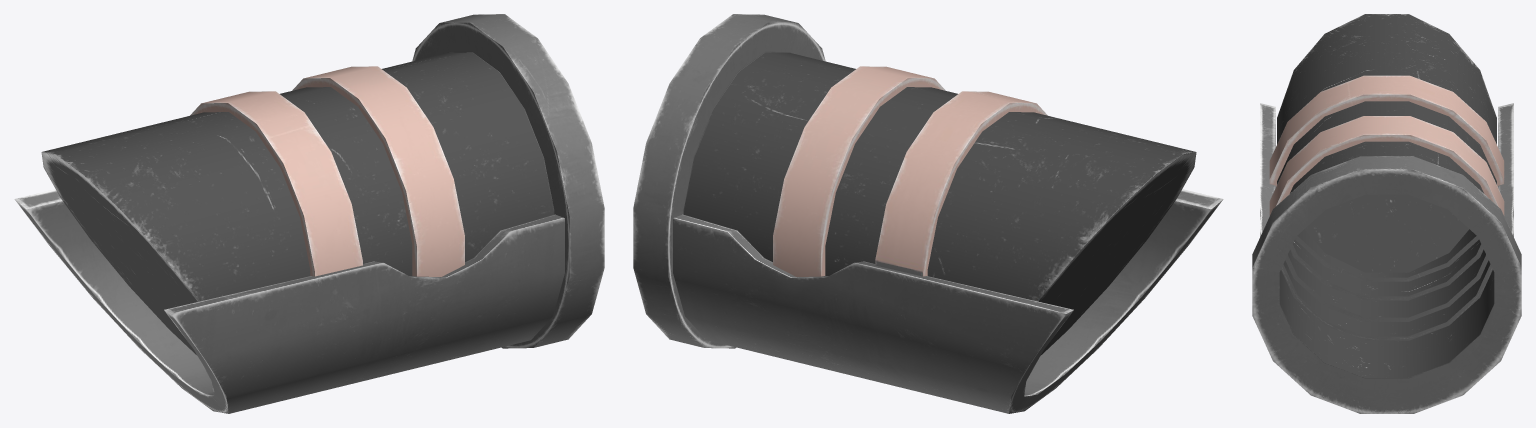
File: pommel_2_c_c.glb
3 views of the same model, side by side, from view 1: azimuth 30°, elevation 25°; view 2: azimuth 150°, elevation 25°; view 3: azimuth 270°, elevation 25° (orthographic). The views are drawn at different scales.
Parts seen in each view (by area): view 1: pommel_2_c_c_lod0; view 2: pommel_2_c_c_lod0; view 3: pommel_2_c_c_lod0.
Part boxes in pixels (bbox=[...]): pommel_2_c_c_lod0: bbox=[14, 14, 604, 413]; pommel_2_c_c_lod0: bbox=[633, 14, 1223, 413]; pommel_2_c_c_lod0: bbox=[1252, 14, 1521, 413].
Size of what is drawn, in the model's own units: 0.0484 by 0.0308 by 0.0308.
Materials: 1 (1 with a texture image).
